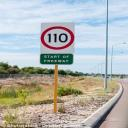speed_limit_110: (41, 26, 74, 50)
